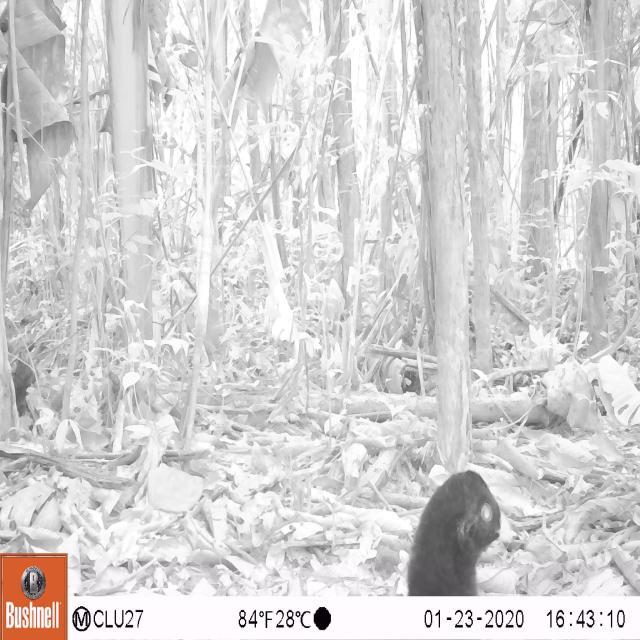Salvins Curassow: (386, 454, 523, 596)
